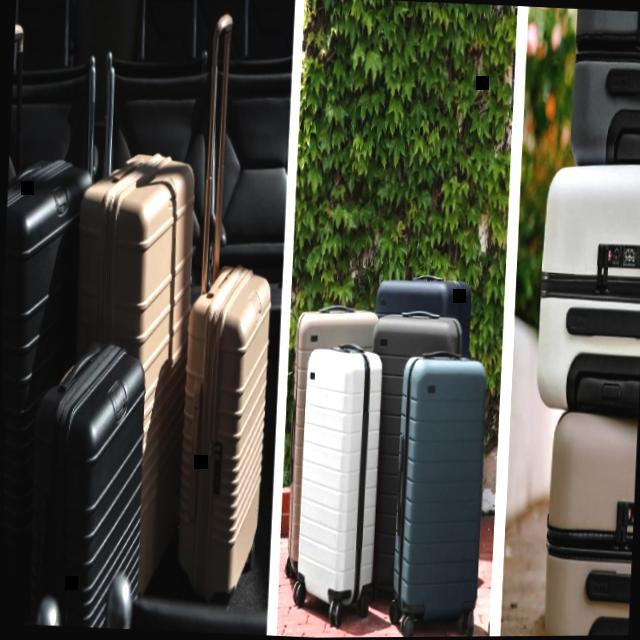luggage: (57, 136, 203, 611), (1, 146, 95, 593), (169, 253, 277, 614), (23, 333, 152, 630), (356, 307, 465, 604), (530, 152, 640, 435), (386, 347, 492, 629), (290, 339, 388, 617), (537, 406, 639, 637), (566, 9, 640, 174)
